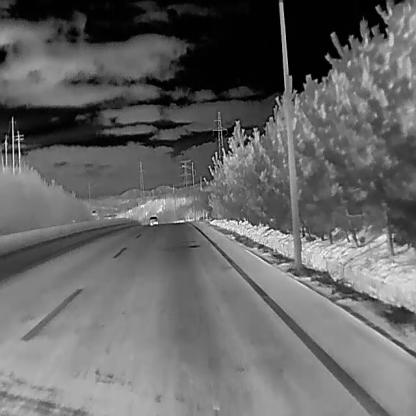car: (149, 215, 157, 225)
